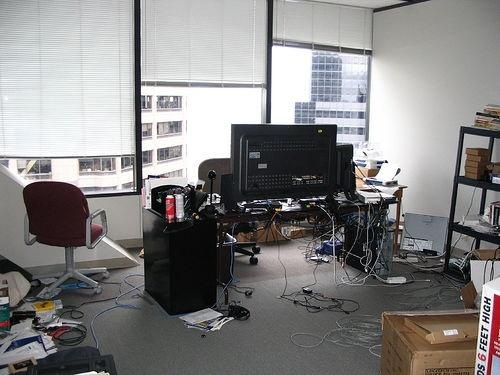chair: (20, 182, 110, 301), (198, 157, 263, 266)
tvmonitor: (232, 124, 341, 199), (405, 214, 450, 263)
